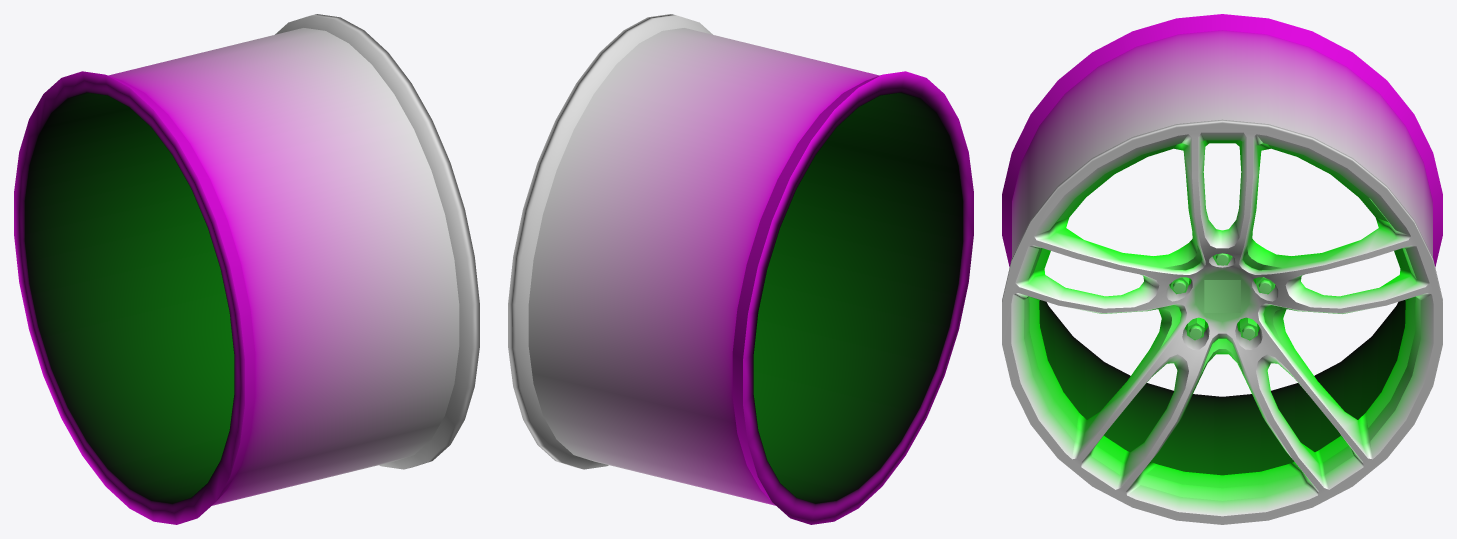
File: Car_Ford_GT_2017_WheelRL_SetA.fbx
3 views of the same model, side by side, from view 1: azimuth 30°, elevation 25°; view 2: azimuth 150°, elevation 25°; view 3: azimuth 270°, elevation 25° (orthographic). The views are drawn at different scales.
Visible parts, largest first — view 1: WheelRL 6; view 2: WheelRL 6; view 3: WheelRL 6.
Boxes of the visible parts, x1,y1,x2,y2 form: WheelRL 6: (14,14,479,524); WheelRL 6: (508,14,973,524); WheelRL 6: (1002,14,1442,524).
Size of the model in its own units: 0.3198 by 0.5429 by 0.5399.
